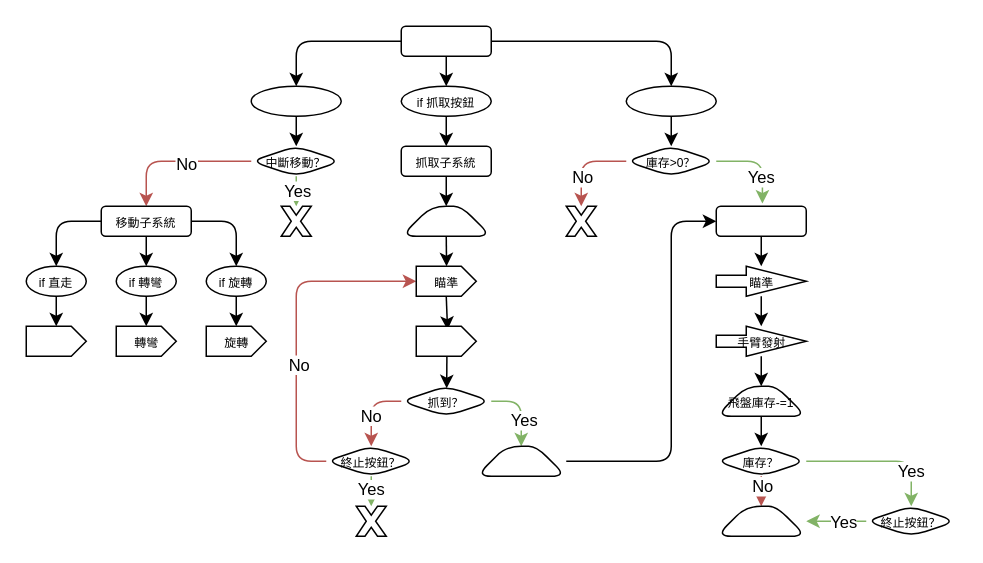
Some shapes in this 983 by 563 pixel diagram are drawn without their labels. The shapes that lost their labels are listed below. From the top down, each one's centre as x and y in pixels, then its label:
the point at 445,40: 操縱系統
the point at 295,100: if 移動
the point at 670,100: if 發射按鈕
the point at 445,220: 暫停移動=True
the point at 760,220: 發射子系統
the point at 55,340: 直走
the point at 445,340: 手臂抓取
the point at 520,460: 飛盤庫存+=1
the point at 760,520: 中斷移動=False
